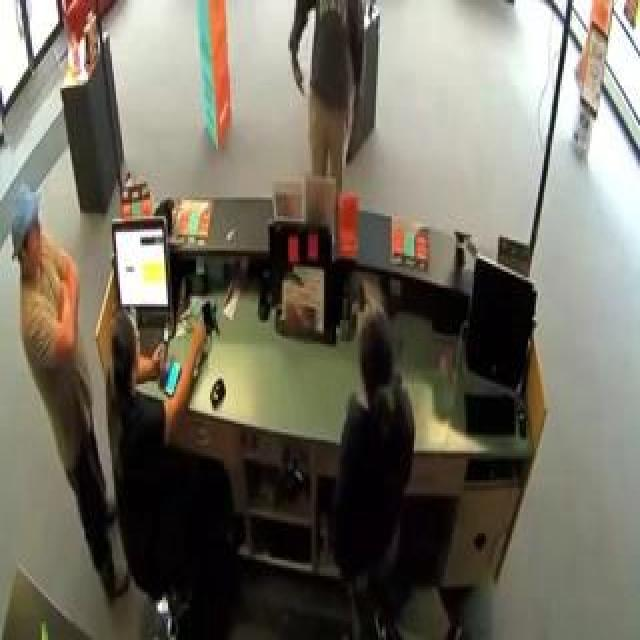low_con: (6, 187, 48, 285)
no_con: (352, 305, 401, 416), (100, 303, 145, 397)
